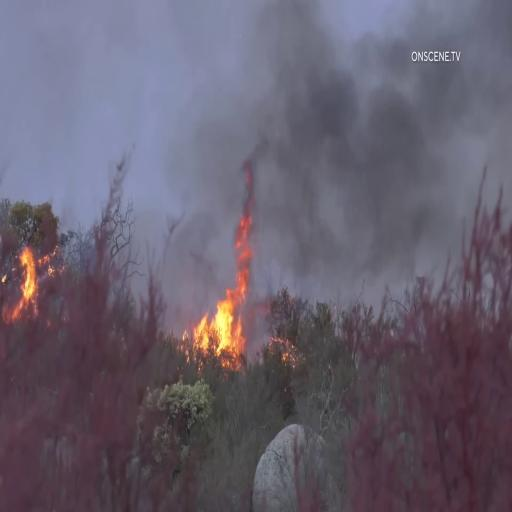fire: (189, 172, 263, 366)
